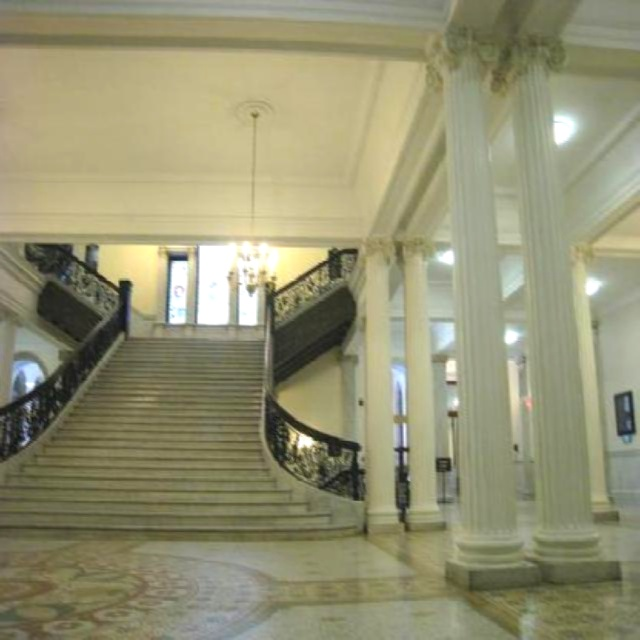stair: (0, 335, 359, 539)
